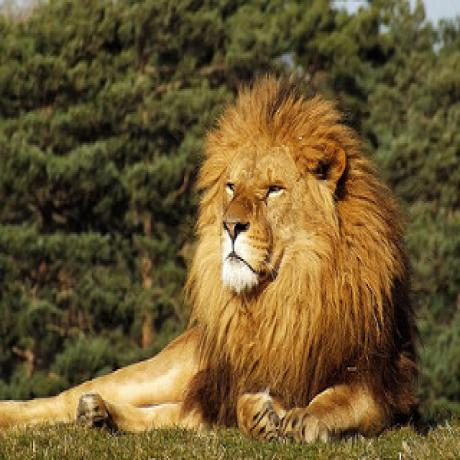Lion: (0, 75, 423, 446)
